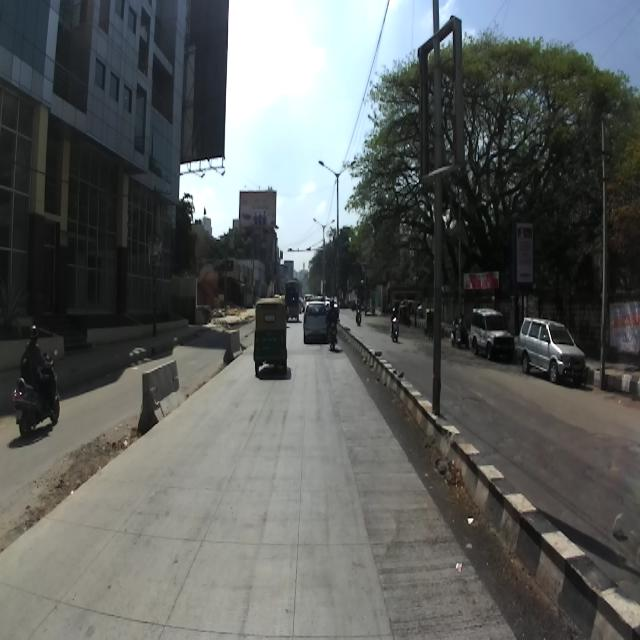auto ahead at: (248, 290, 292, 387)
barrier ahead at: (134, 360, 191, 435)
motorcycle ahead at: (12, 357, 61, 432)
